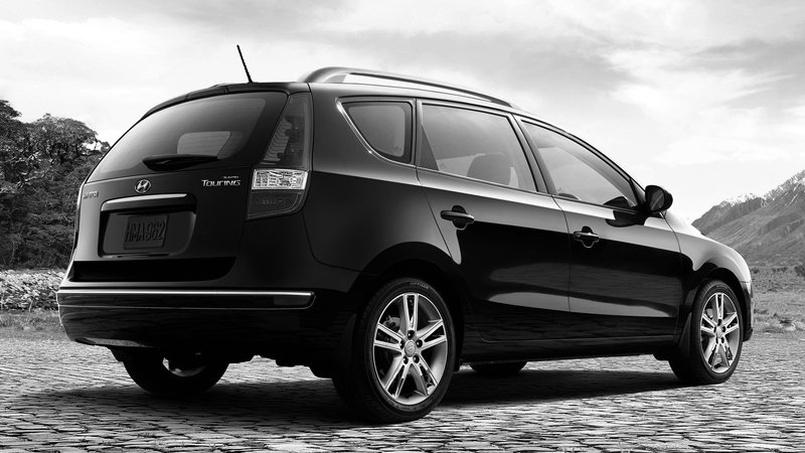car: (46, 35, 762, 418)
